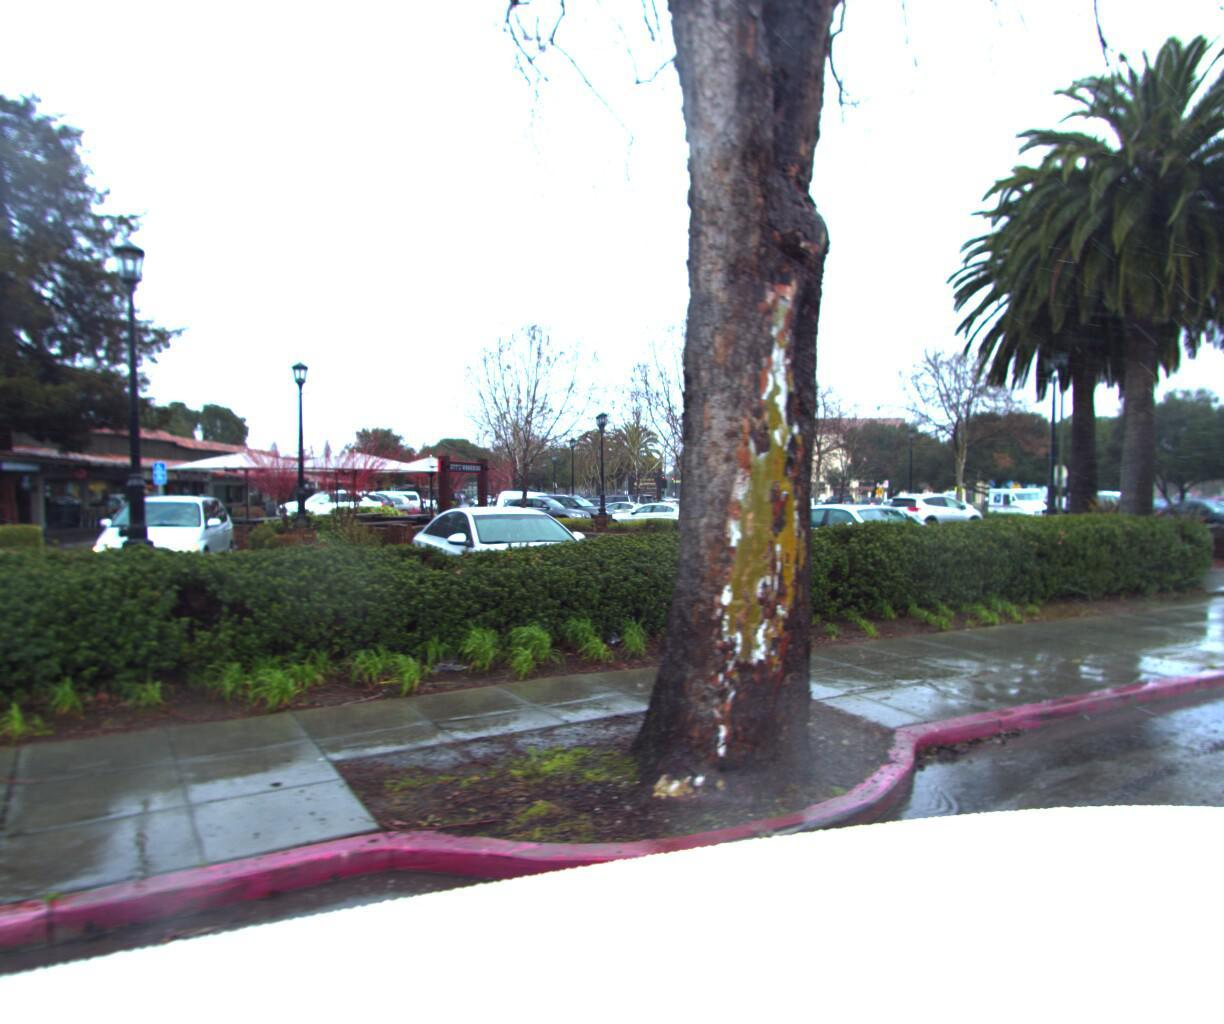car: (396, 496, 607, 623), (743, 495, 941, 582), (877, 485, 986, 530), (1155, 487, 1224, 527), (986, 482, 1054, 513), (1199, 487, 1224, 524)
